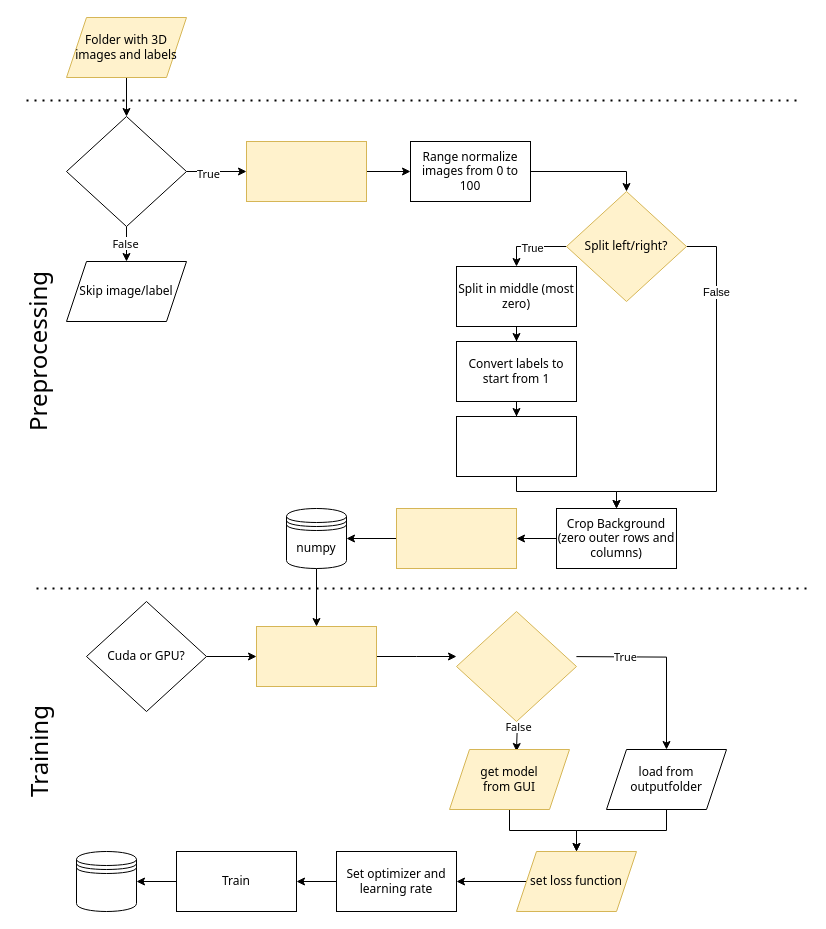
The diagram is 826 pixels wide and 929 high, and some of its shapes have lost their labels. The shapes that lost their labels are listed below. From the top down, each one's centre as x and y in pixels, then its label:
point (126, 171): shape image = label?
point (306, 171): Batch Split on z-axis
point (516, 446): Mirror
point (456, 538): resize to given dim
point (316, 656): Split train and validation set
point (516, 666): Load old model?
point (106, 881): model.pt
